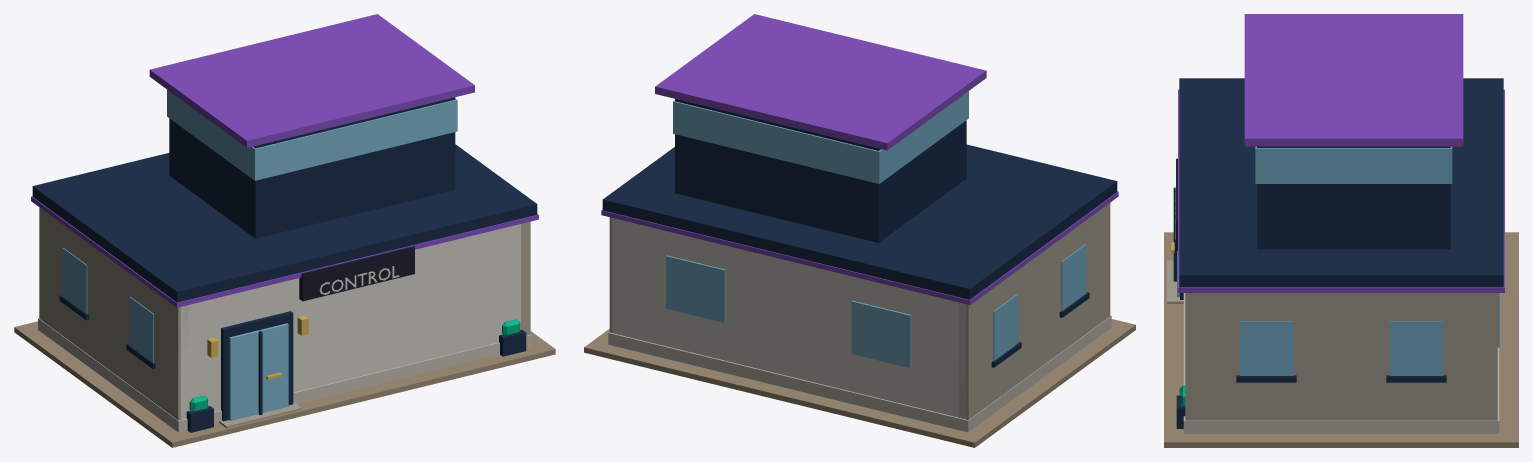
File: control-room-CPmIj5Mz.glb
3 renders of one model, left to right at view 1: azimuth 30°, elevation 25°; view 2: azimuth 150°, elevation 25°; view 3: azimuth 270°, elevation 25°, orthographic. The views are drawn at different scales.
Parts seen in each view (by area): view 1: Architecture; view 2: Architecture; view 3: Architecture.
Boxes of the visible parts, box(x1,y1,x2,y2) form: Architecture: box(14, 14, 555, 447); Architecture: box(584, 14, 1135, 447); Architecture: box(1164, 14, 1518, 447).
Size of the model in its own units: 14 by 8.85 by 10.
